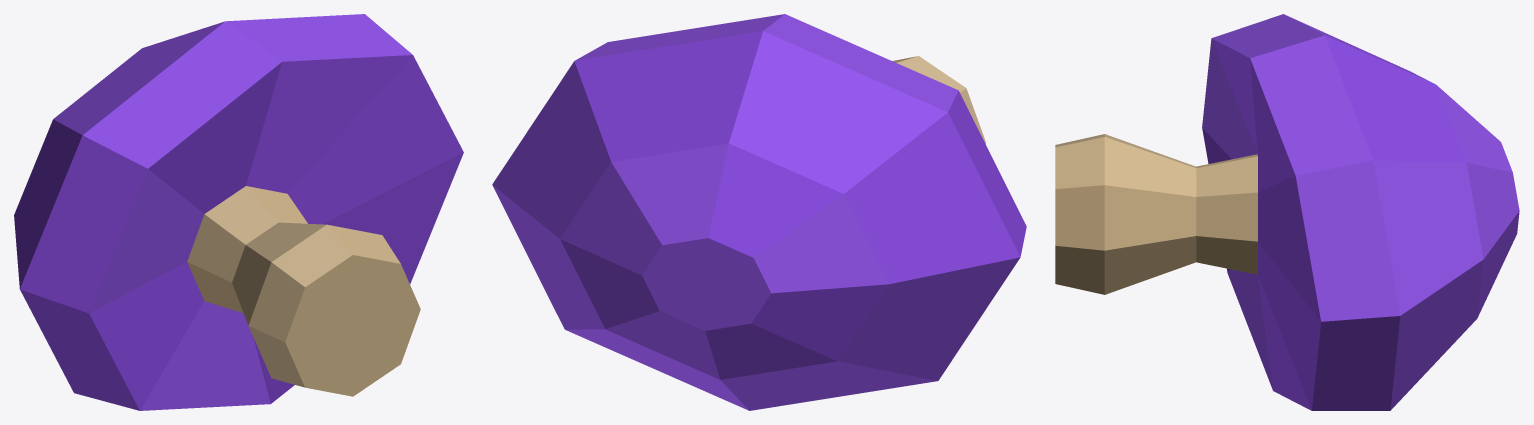
File: mushroom_1.fbx
3 renders of one model, left to right at view 1: azimuth 30°, elevation 25°; view 2: azimuth 150°, elevation 25°; view 3: azimuth 270°, elevation 25°, orthographic. The views are drawn at different scales.
Visible parts, largest first — view 1: mushroom_1; view 2: mushroom_1; view 3: mushroom_1.
Boxes of the visible parts, bbox=[...] form: mushroom_1: bbox=[14, 14, 463, 410]; mushroom_1: bbox=[492, 14, 1026, 410]; mushroom_1: bbox=[1055, 14, 1519, 410].
Bounding box in the file's own units: 58.15 × 44.31 × 52.67.
